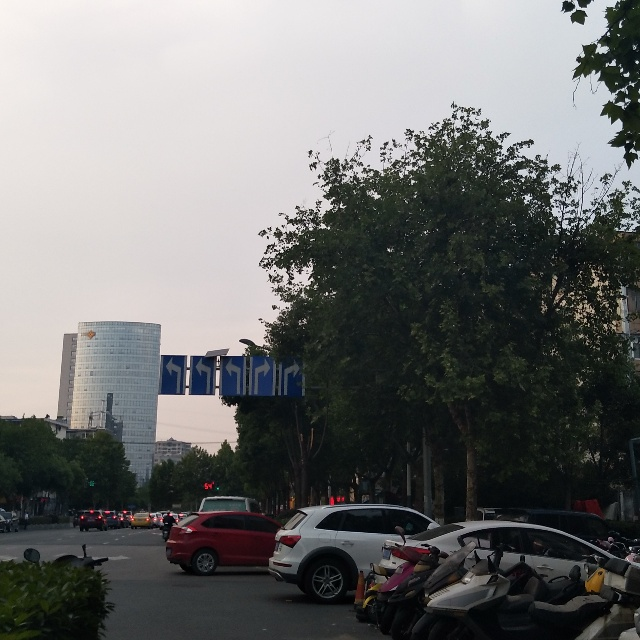left: (156, 352, 187, 397), (188, 353, 217, 401), (220, 354, 247, 401)
right: (248, 351, 279, 399), (281, 353, 312, 401)
